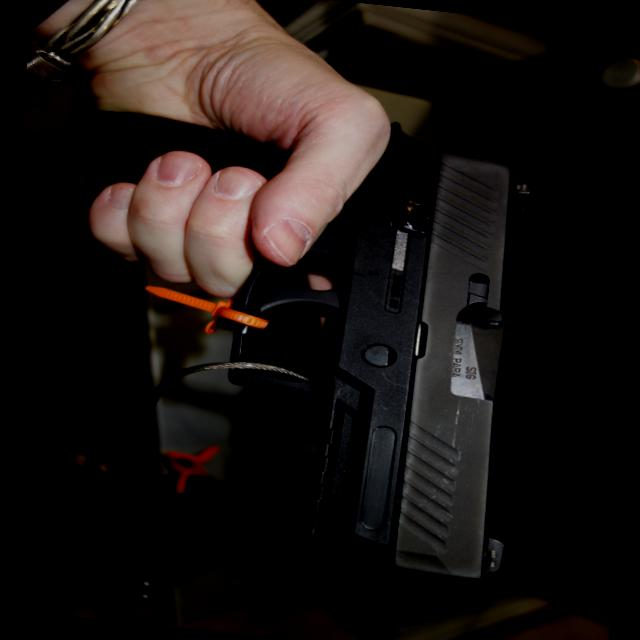handgun: (28, 86, 553, 586)
